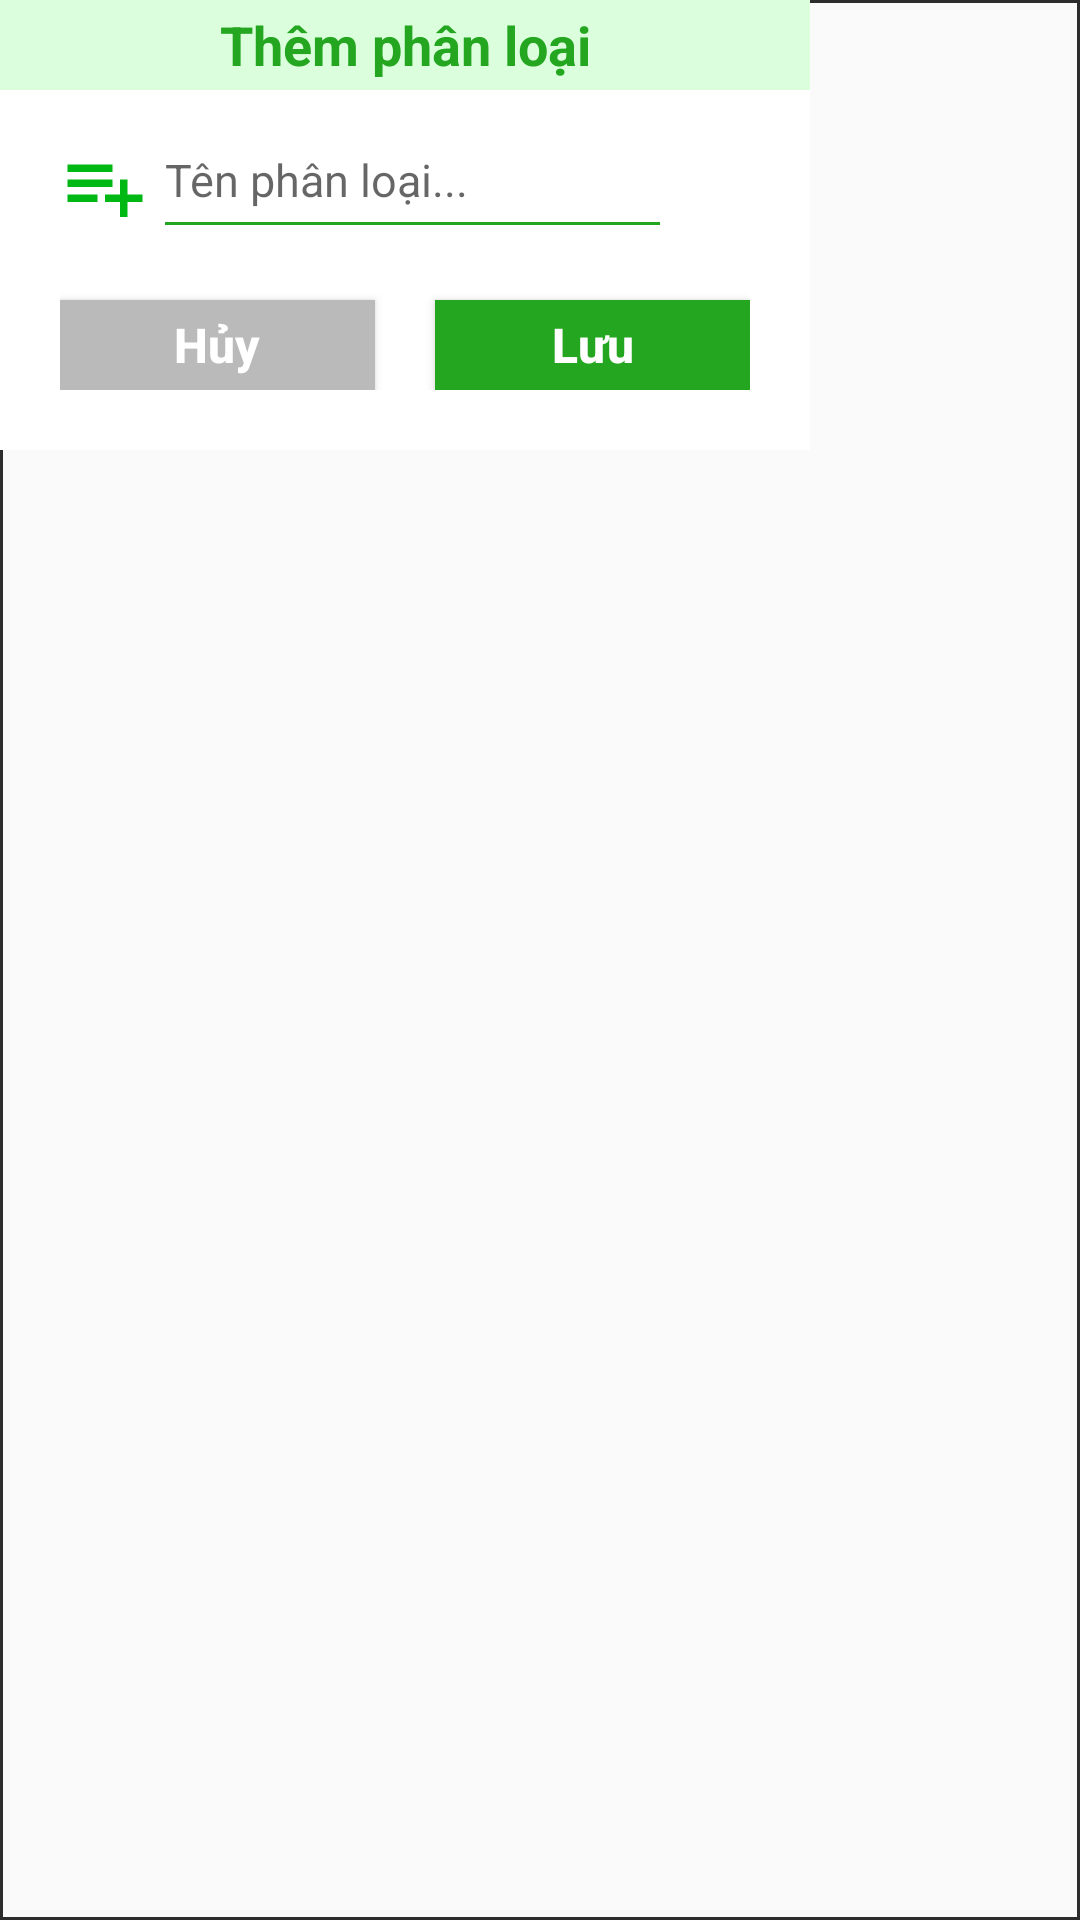

Point at icon controls on the screen. Image size 1080 x 1920, points as (x=x, y=y).
playlist add: (x=105, y=190)
